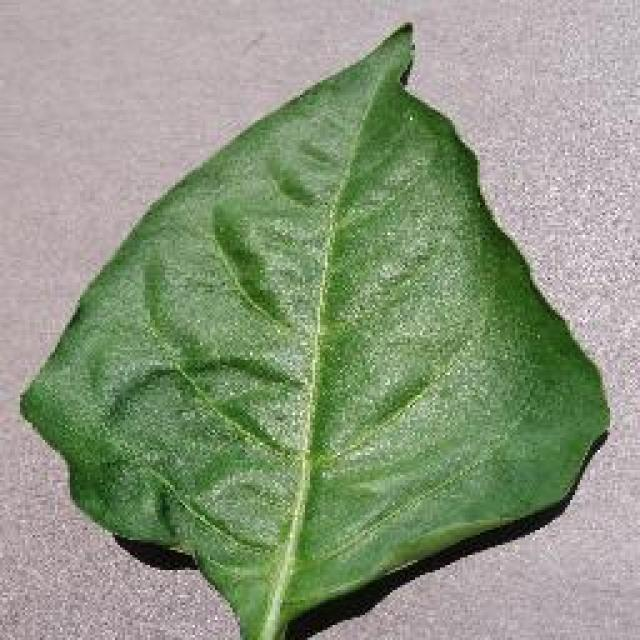Chilli_Healthy: (18, 18, 612, 638)
